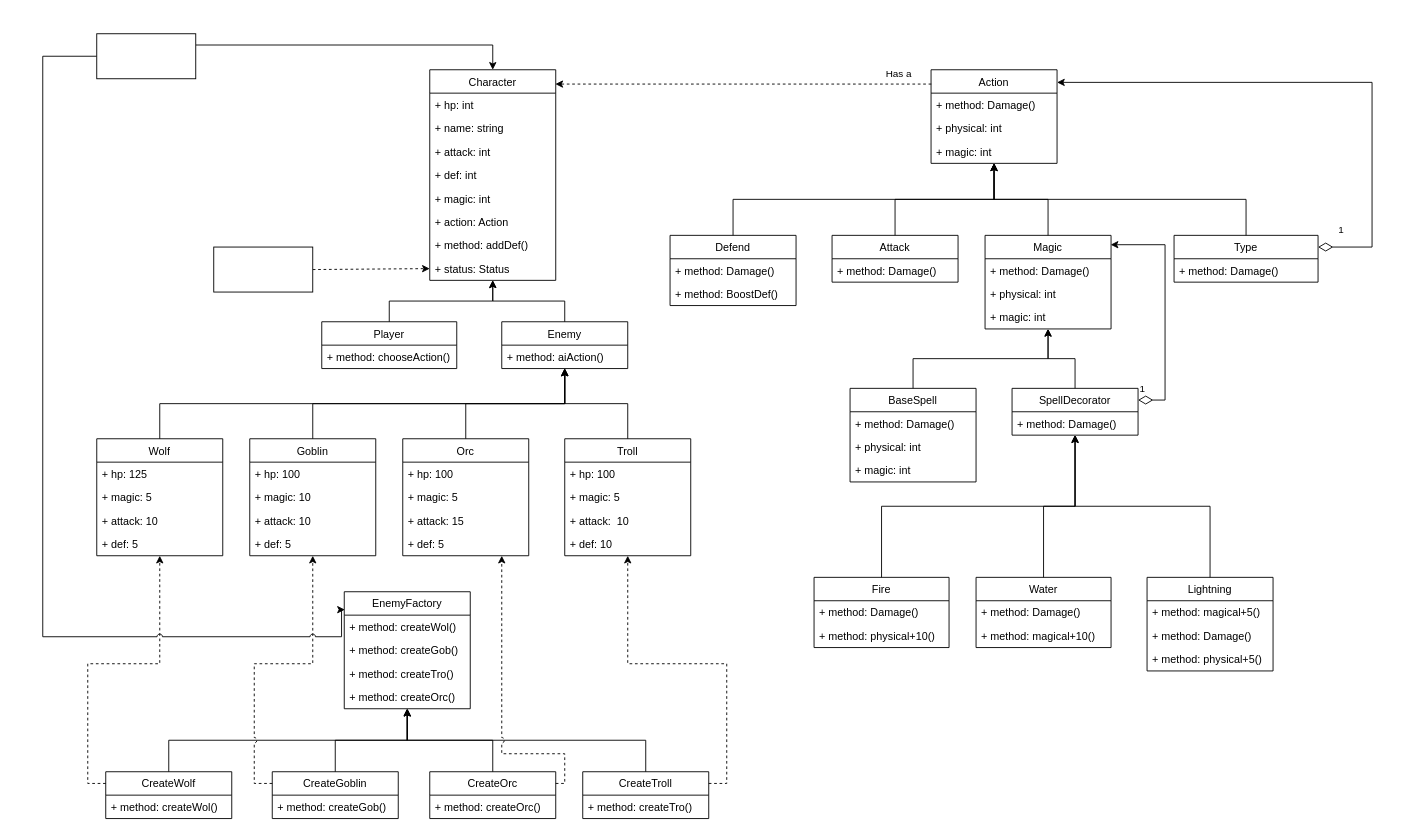
This 1403x836 diagram has some shape labels left out. Each missing label, with the centre of its shape:
"Client" goes at (146,56).
"«Enumeration» Status" goes at (263,269).
